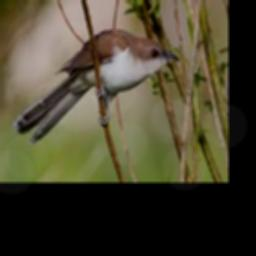Cuckoo: (12, 28, 179, 144)
